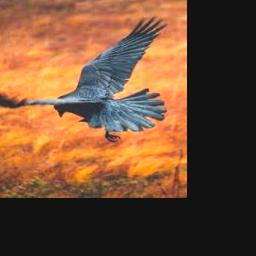Crow: (0, 15, 168, 141)
